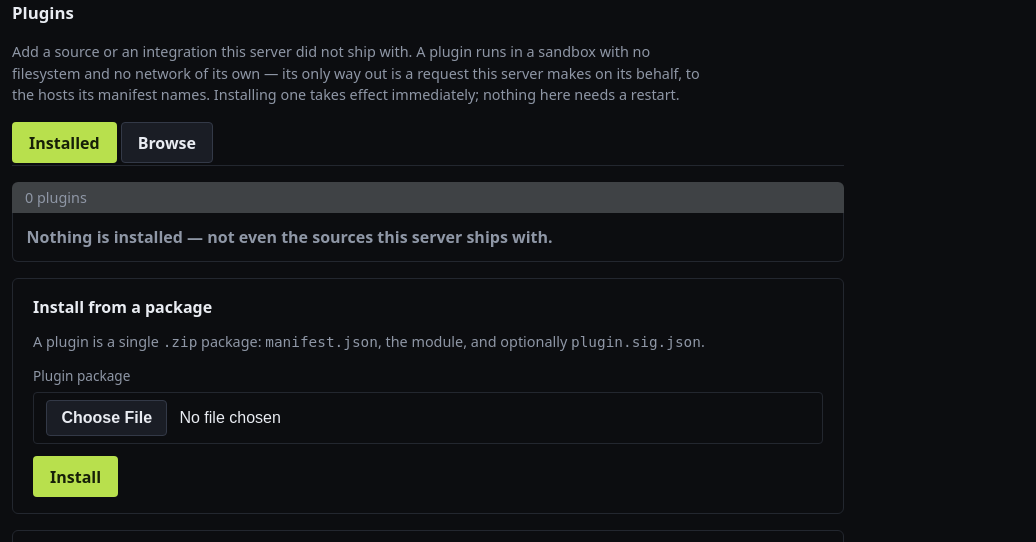
Scenario: the catalog › keeps the tab, shows a note, and leaves the other paths working when the catalog is unreachable
The tab is there because the URL is SET, not because entries came back.
Click the button with test id "plugin-tab-browse" at [167, 143], box [121, 122, 213, 163]
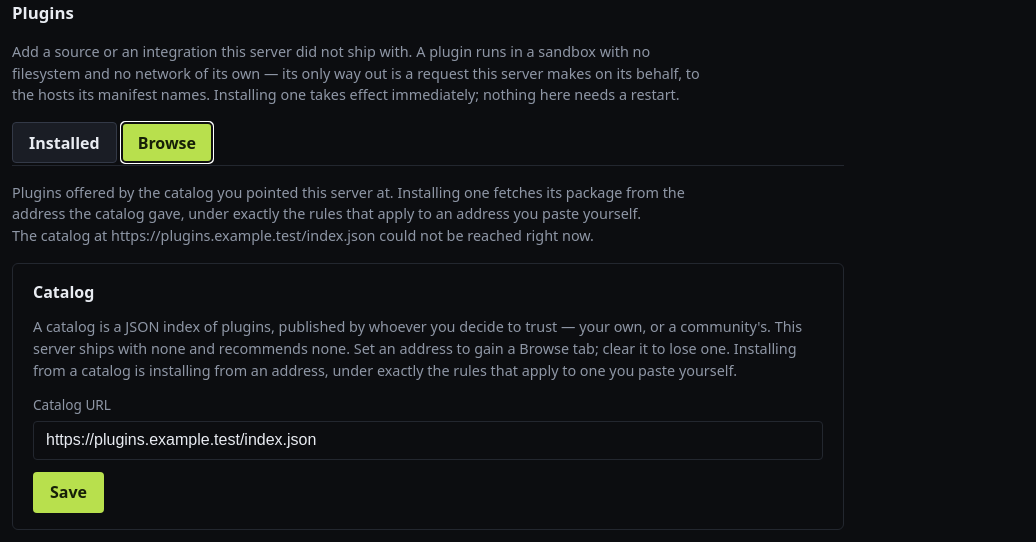
Check: the text with test id "plugin-catalog-note" shows "could not be reached", box [12, 226, 594, 245]
And the rest of the screen is exactly where it was.
Click the button with test id "plugin-tab-installed" at [64, 143], box [12, 122, 117, 163]
(page scrolled)
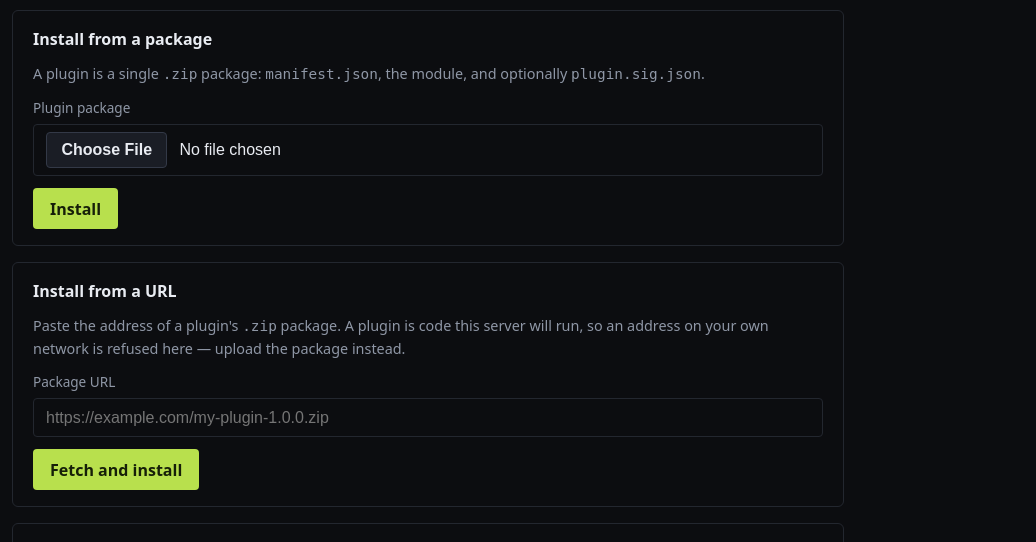
Check: the element with test id "plugin-install-upload" is shown, box [12, 10, 844, 246]
Check: the element with test id "plugin-install-url" is shown, box [12, 262, 844, 507]
